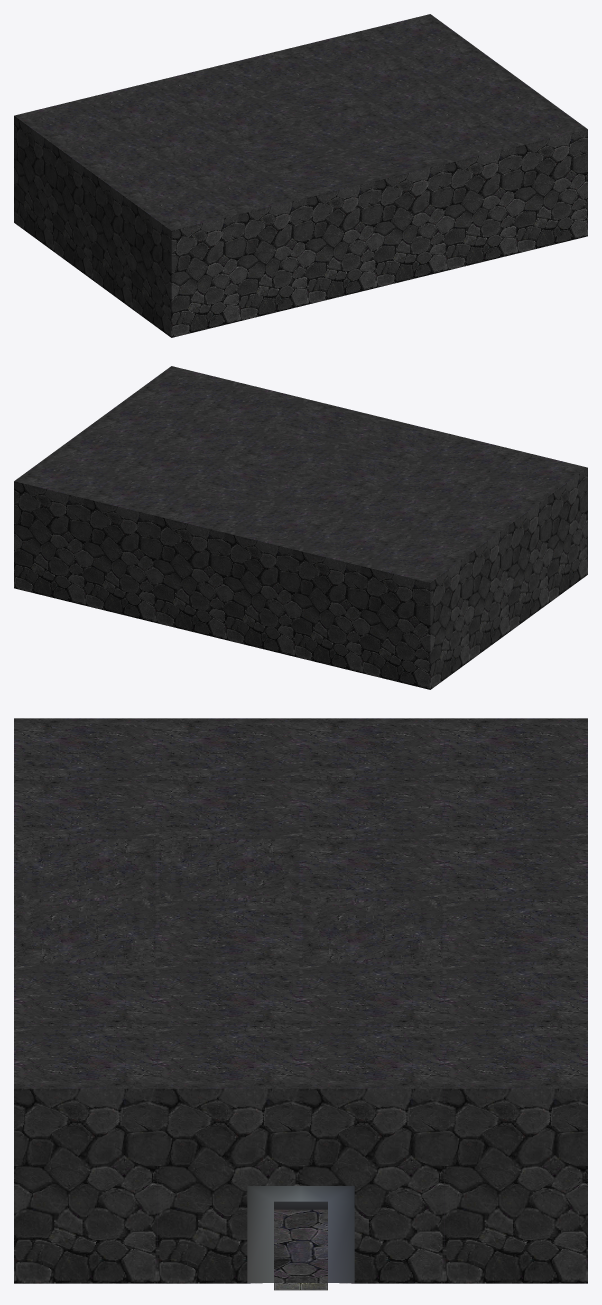
3 renders of one model, top to bottom at view 1: azimuth 30°, elevation 25°; view 2: azimuth 150°, elevation 25°; view 3: azimuth 270°, elevation 25°, orthographic. The views are drawn at different scales.
Visible parts, largest first — view 1: node-012CE312; view 2: node-012CE312; view 3: node-012CE312, node-03A24CDD.
Part boxes in pixels (<box>): node-012CE312: <box>14,14,587,337</box>; node-012CE312: <box>14,366,587,689</box>; node-012CE312: <box>14,718,587,1283</box>; node-03A24CDD: <box>247,1186,354,1282</box>.
Bounding box in the file's own units: 996 × 240 × 640.
